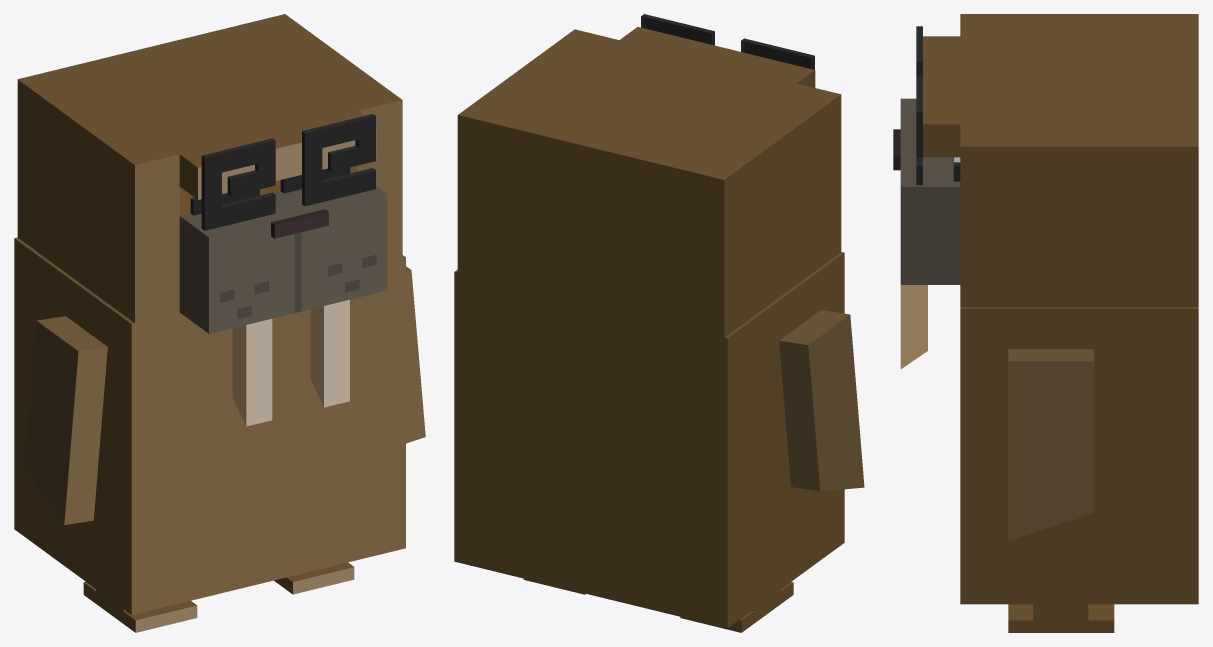
3 views of the same model, side by side, from view 1: azimuth 30°, elevation 25°; view 2: azimuth 150°, elevation 25°; view 3: azimuth 270°, elevation 25° (orthographic).
Parts seen in each view (by area): view 1: Ch_186_Head, Ch_186, Ch_186_Arm_L, Ch_186_Eye_03_L, Ch_186_Eye_03_R, Ch_186_Arm_R, Ch_186_Leg_L, Ch_186_Leg_R, Ch_186_Eye_02; view 2: Ch_186, Ch_186_Head, Ch_186_Arm_L, Ch_186_Eye_03_R, Ch_186_Eye_03_L, Ch_186_Leg_L; view 3: Ch_186_Head, Ch_186, Ch_186_Arm_R, Ch_186_Leg_R, Ch_186_Eye_03_R.
Boxes of the visible parts, x1,y1,x2,y2 form: Ch_186_Head: [17, 14, 402, 426]; Ch_186: [14, 237, 405, 614]; Ch_186_Arm_L: [24, 316, 107, 524]; Ch_186_Eye_03_L: [201, 138, 275, 230]; Ch_186_Eye_03_R: [302, 114, 375, 206]; Ch_186_Arm_R: [406, 266, 425, 443]; Ch_186_Leg_L: [83, 581, 197, 632]; Ch_186_Leg_R: [274, 562, 354, 594]; Ch_186_Eye_02: [190, 167, 350, 215]; Ch_186: [454, 252, 844, 628]; Ch_186_Head: [457, 27, 841, 337]; Ch_186_Arm_L: [779, 310, 864, 491]; Ch_186_Eye_03_R: [641, 14, 714, 45]; Ch_186_Eye_03_L: [741, 38, 814, 69]; Ch_186_Leg_L: [680, 582, 793, 632]; Ch_186_Head: [893, 14, 1198, 369]; Ch_186: [960, 307, 1198, 604]; Ch_186_Arm_R: [1008, 349, 1093, 540]; Ch_186_Leg_R: [1008, 604, 1114, 632]; Ch_186_Eye_03_R: [916, 76, 922, 185].
Bounding box in the file's own units: 8.51 × 11.3 × 6.13.
